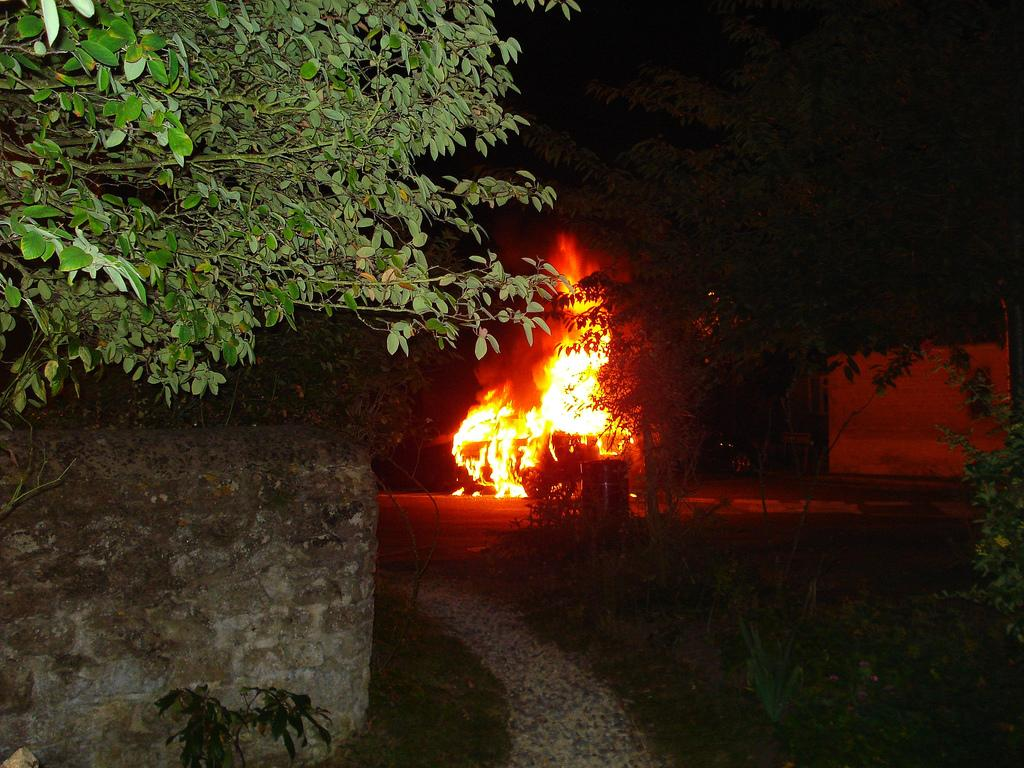fire: (552, 360, 600, 436), (466, 422, 520, 456)
